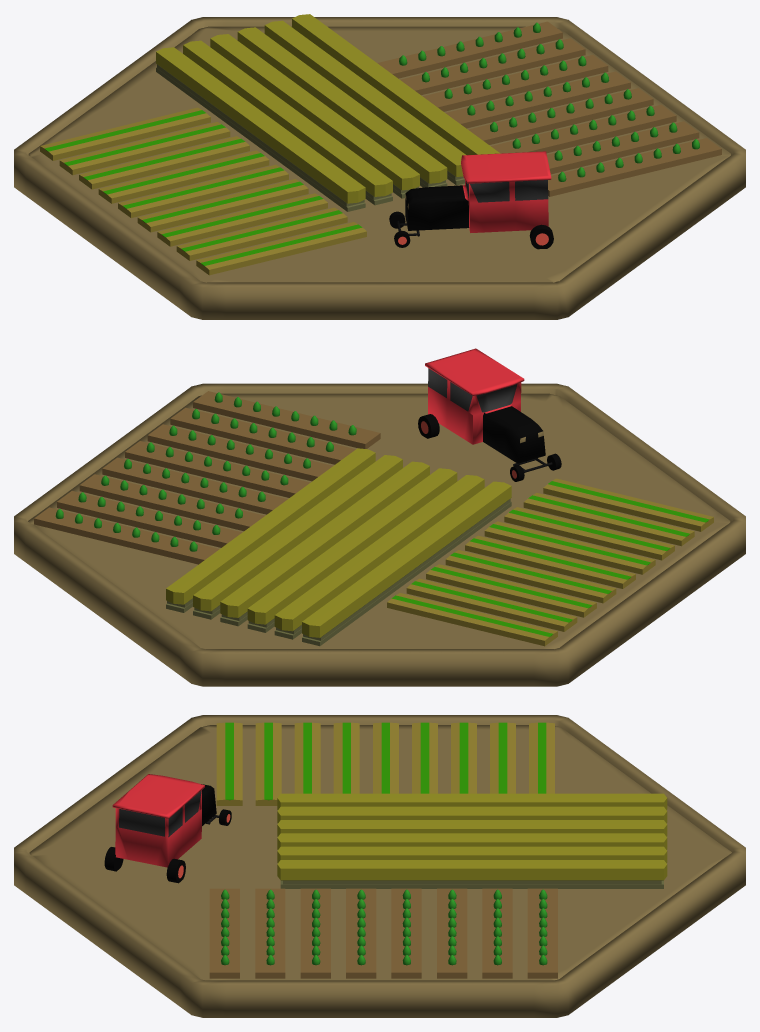
File: Farm_Tile2.fbx
The picture shows the model from 3 angles, top to bottom: view 1: azimuth 30°, elevation 25°; view 2: azimuth 150°, elevation 25°; view 3: azimuth 270°, elevation 25°; orthographic projection.
Parts seen in each view (by area): view 1: Cylinder.005, Cylinder.003; view 2: Cylinder.005, Cylinder.003; view 3: Cylinder.005, Cylinder.003.
Boxes of the visible parts, <box> form: Cylinder.005: <box>28,14,730,282</box>; Cylinder.003: <box>14,17,745,319</box>; Cylinder.005: <box>28,348,730,648</box>; Cylinder.003: <box>14,383,745,686</box>; Cylinder.005: <box>29,722,731,980</box>; Cylinder.003: <box>14,715,745,1017</box>.
Bounding box in the file's own units: 114 × 16.51 × 100.
